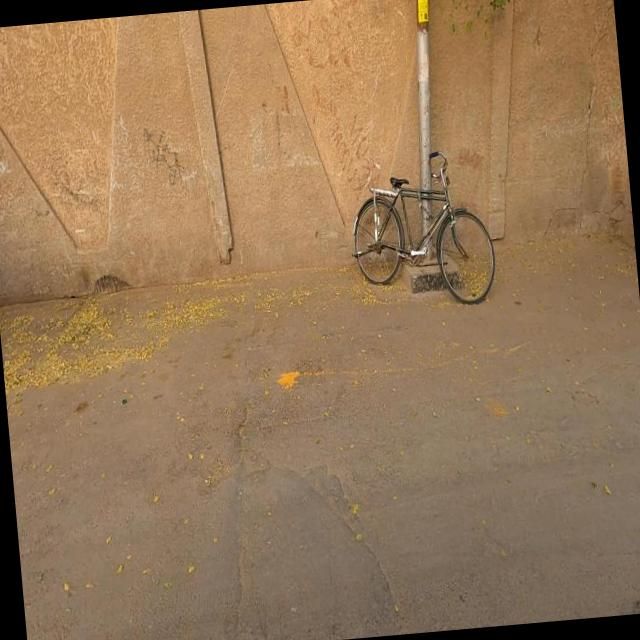debris: (258, 0, 431, 326), (100, 61, 240, 272)
